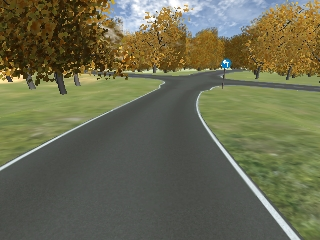left: (221, 59, 230, 68)
